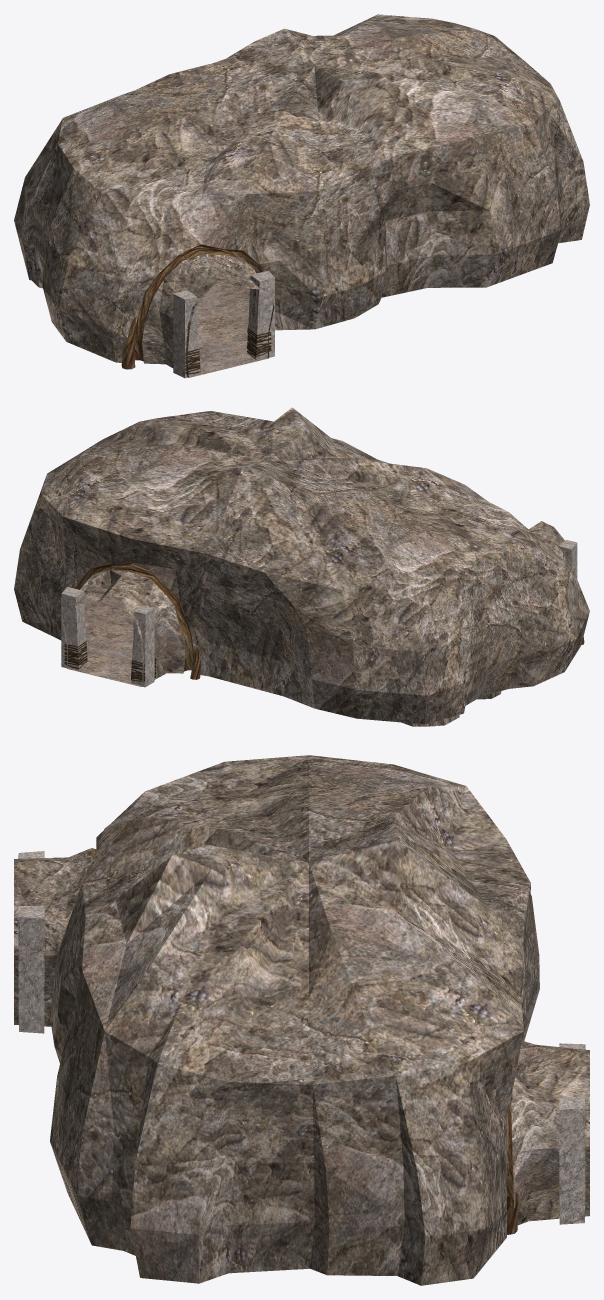
File: thm_dath_mtn_clan_stronghold_r4_healing_mesh_r4.fbx
3 renders of one model, top to bottom at view 1: azimuth 30°, elevation 25°; view 2: azimuth 150°, elevation 25°; view 3: azimuth 270°, elevation 25°, orthographic. The views are drawn at different scales.
Visible parts, largest first — view 1: mesh_node; view 2: mesh_node; view 3: mesh_node.
Part boxes in pixels (x1,y1,x2,y2): mesh_node: [14, 14, 589, 378]; mesh_node: [14, 407, 589, 726]; mesh_node: [14, 755, 589, 1285].
Size of the model in its own units: 21.18 by 8.08 by 14.
